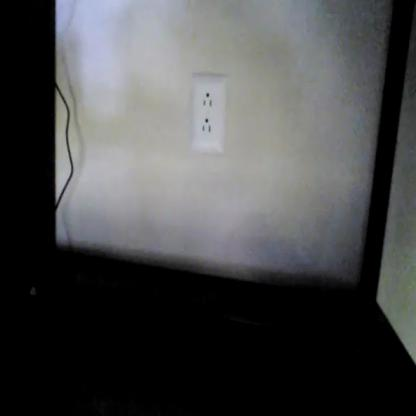OUTLET: (192, 78, 224, 153)
